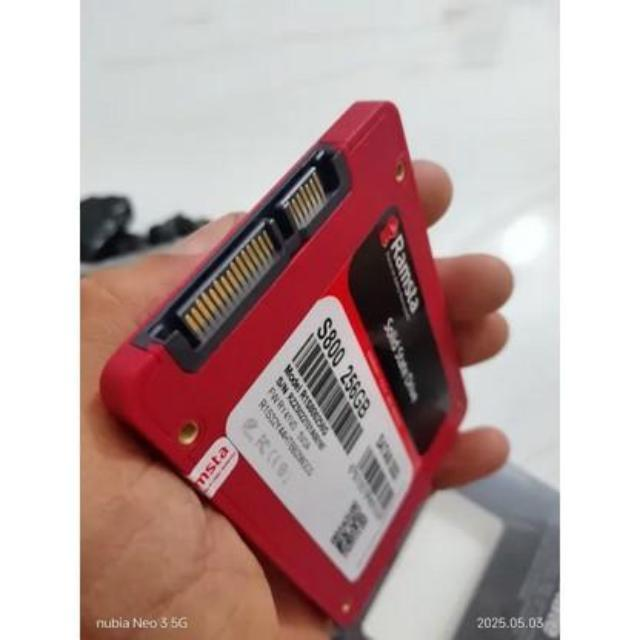DISK: (94, 102, 474, 630)
